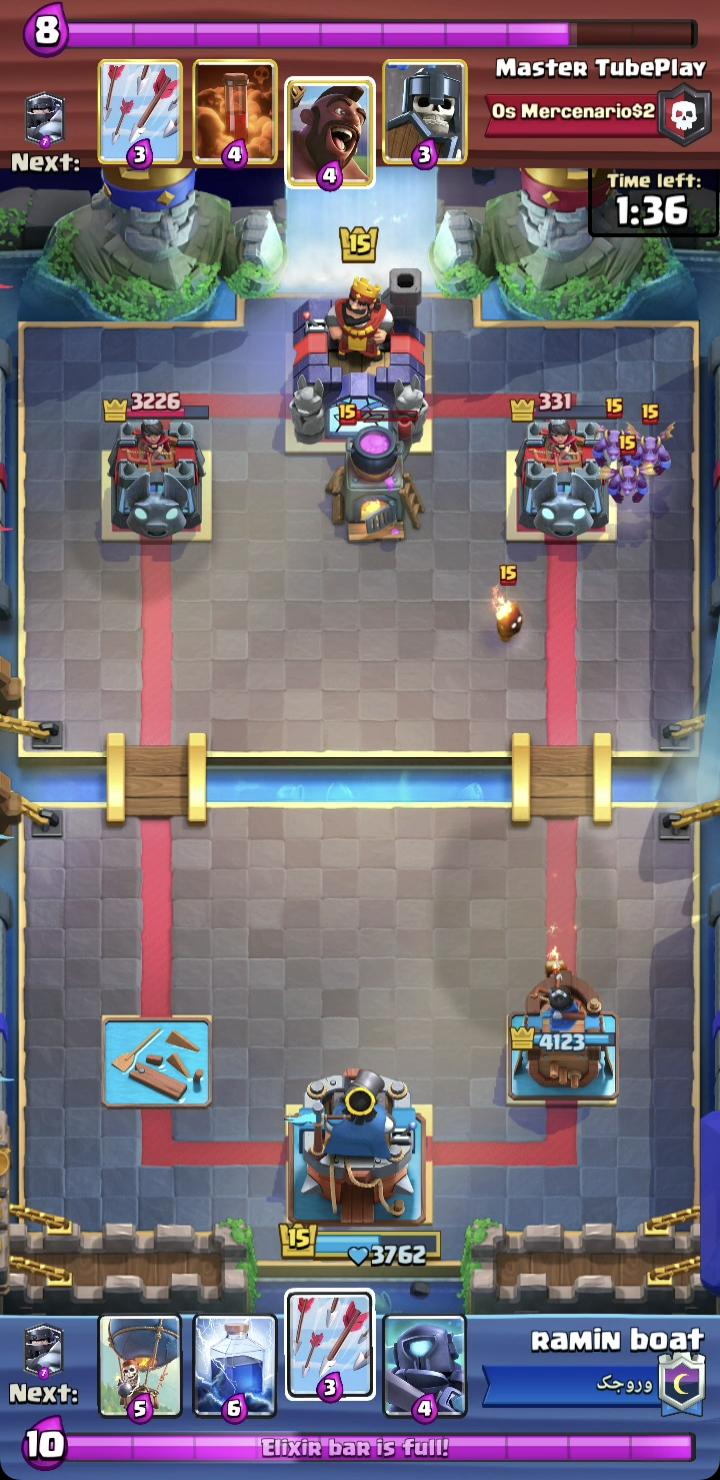enemy_fire_spirit: (489, 564, 525, 644)
enemy_furnace: (325, 402, 426, 544)
enemy_minion: (624, 403, 677, 476), (593, 397, 637, 467), (607, 433, 649, 506)
